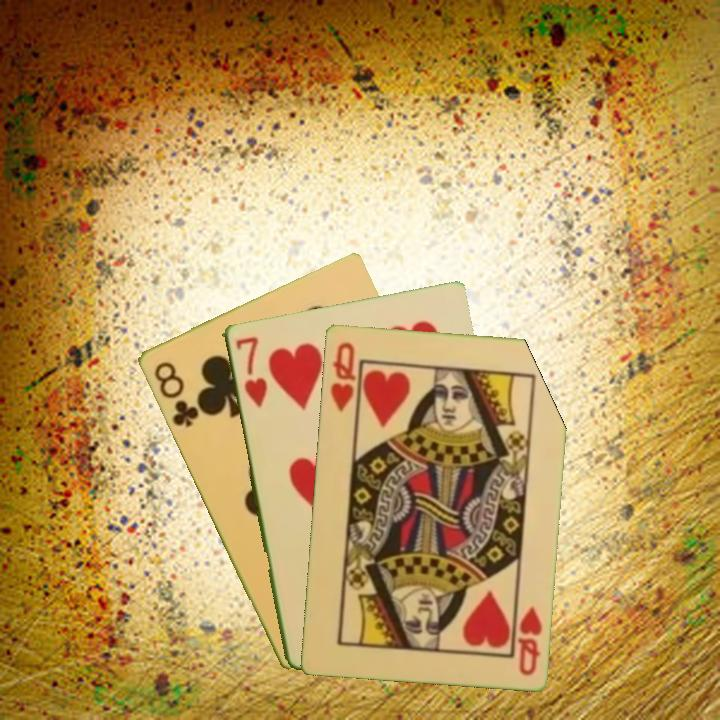7h: (231, 332, 270, 410)
8c: (150, 357, 202, 430)
Qh: (510, 602, 545, 678), (327, 338, 358, 414)
